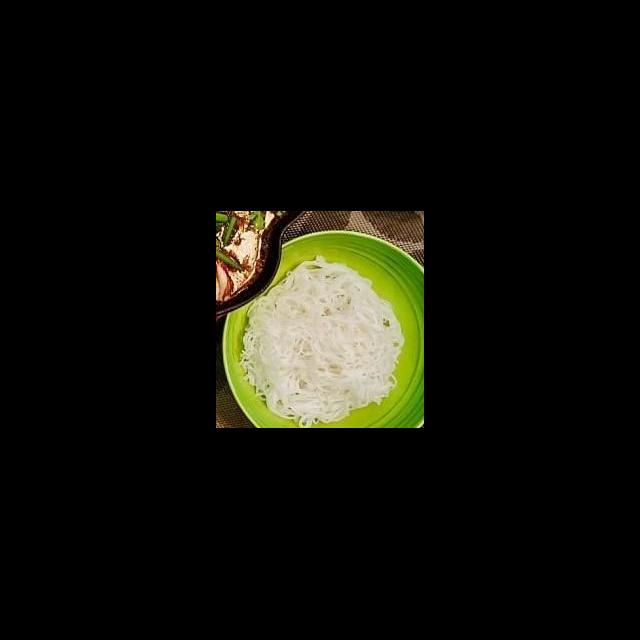bun: (238, 252, 407, 428)
